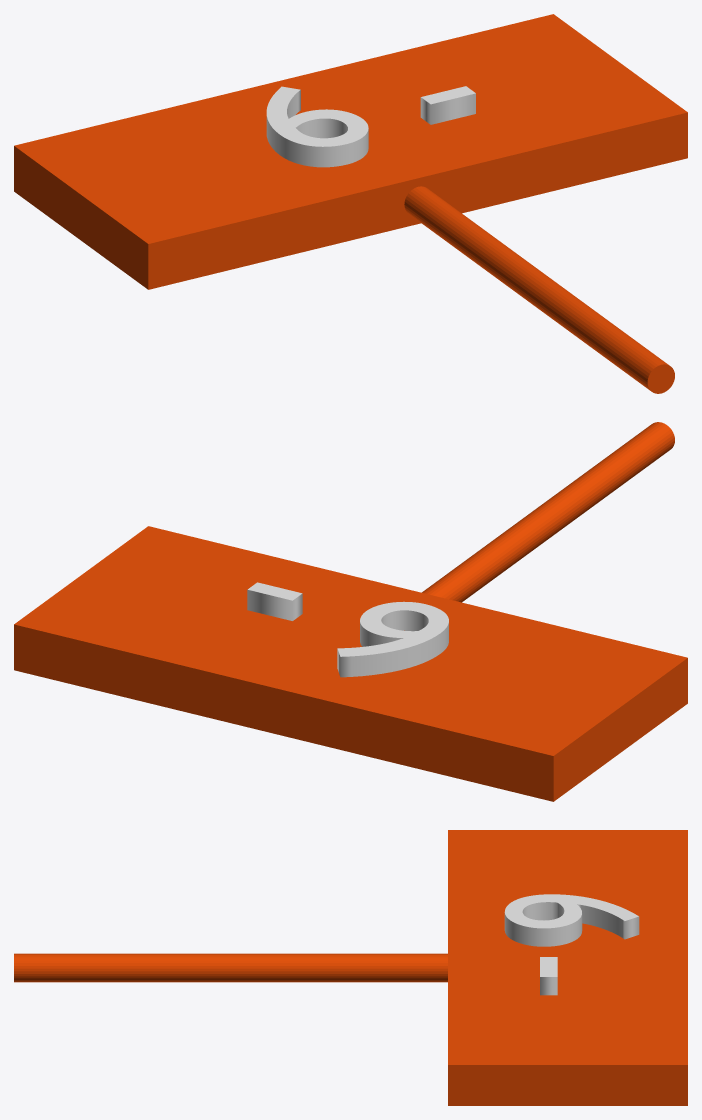
3 views of the same model, one above another, from view 1: azimuth 30°, elevation 25°; view 2: azimuth 150°, elevation 25°; view 3: azimuth 270°, elevation 25° (orthographic). The views are drawn at different scales.
Visible parts, largest first — view 1: Куб, Цилиндр, Text; view 2: Куб, Цилиндр, Text; view 3: Куб, Цилиндр, Text.
Part boxes in pixels (left/top/right/bottom): Куб: left=14, top=14, right=687, bottom=289; Цилиндр: left=404, top=186, right=674, bottom=393; Text: left=266, top=86, right=475, bottom=167; Куб: left=14, top=526, right=687, bottom=801; Цилиндр: left=422, top=422, right=674, bottom=602; Text: left=247, top=582, right=448, bottom=677; Куб: left=448, top=830, right=687, bottom=1105; Цилиндр: left=14, top=953, right=447, bottom=982; Text: left=504, top=894, right=639, bottom=995.
Bounding box in the file's own units: 290 × 34.03 × 351.
